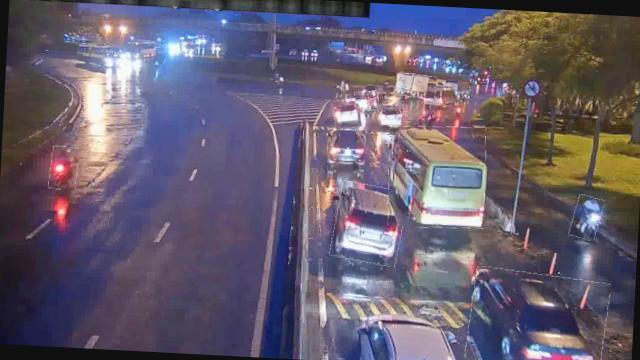Bike: (570, 195, 602, 241), (49, 146, 78, 190)
Bus: (385, 122, 488, 229)
Car: (465, 268, 609, 360), (332, 182, 406, 266), (358, 311, 474, 360), (326, 128, 365, 172), (332, 96, 366, 130), (378, 102, 403, 125), (354, 90, 378, 111)
Truck: (396, 72, 436, 98)
